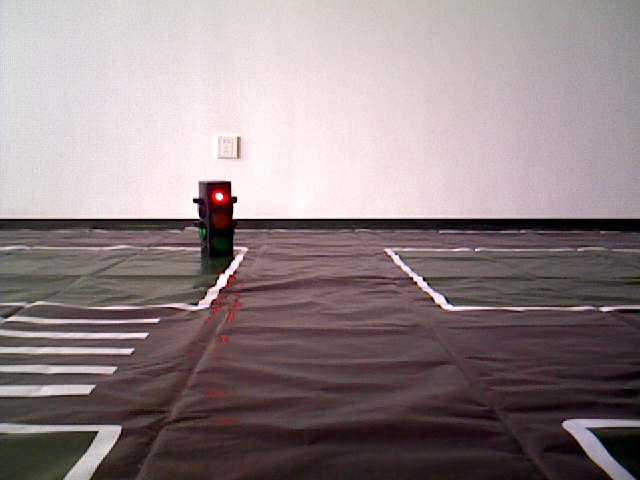red: (199, 184, 228, 259)
